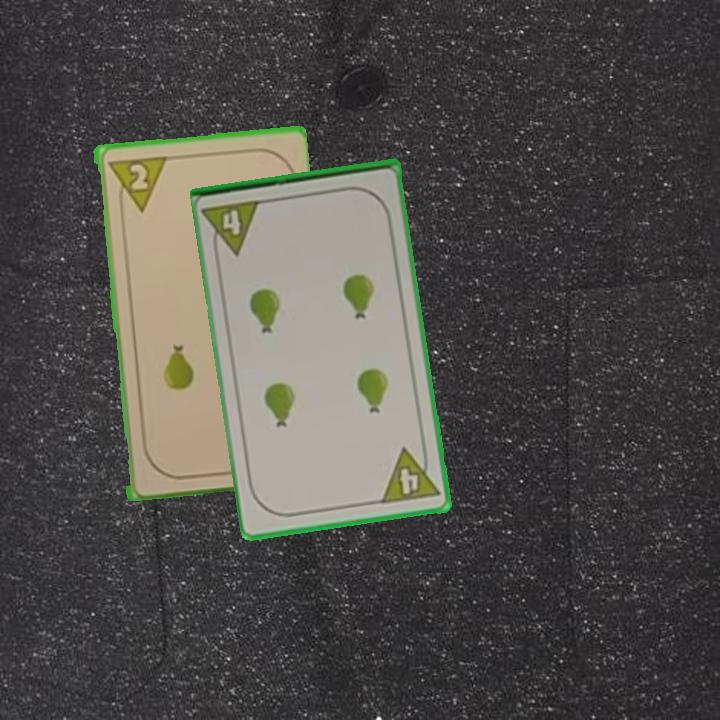2p: (102, 152, 167, 215)
4p: (377, 441, 442, 507), (200, 196, 265, 260)
